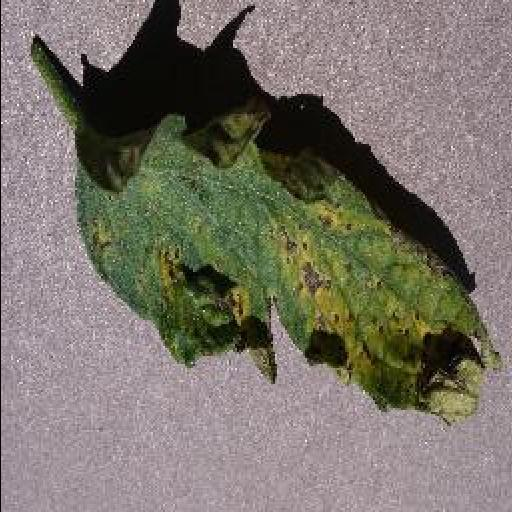disease_tomato: (72, 112, 502, 426)
